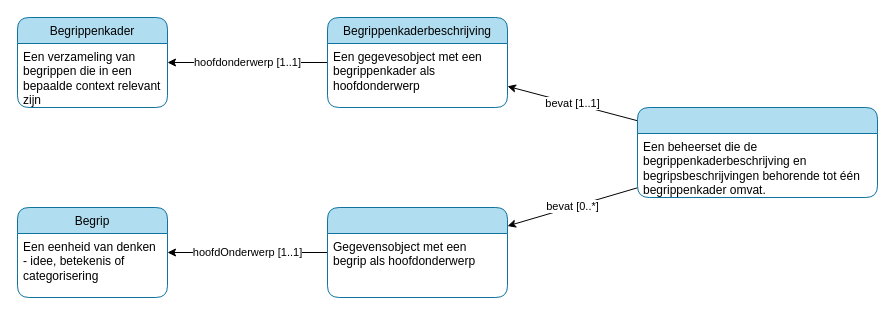
Some shapes in this 895 by 318 pixel diagram are drawn without their labels. The box of each missing label's shape, as (x1, y1, x2, y2) in pixels:
Begrippenkaderbeschrijvingsbeheerset: (636, 106, 878, 198)
Begripsbeschrijving: (326, 206, 508, 298)
